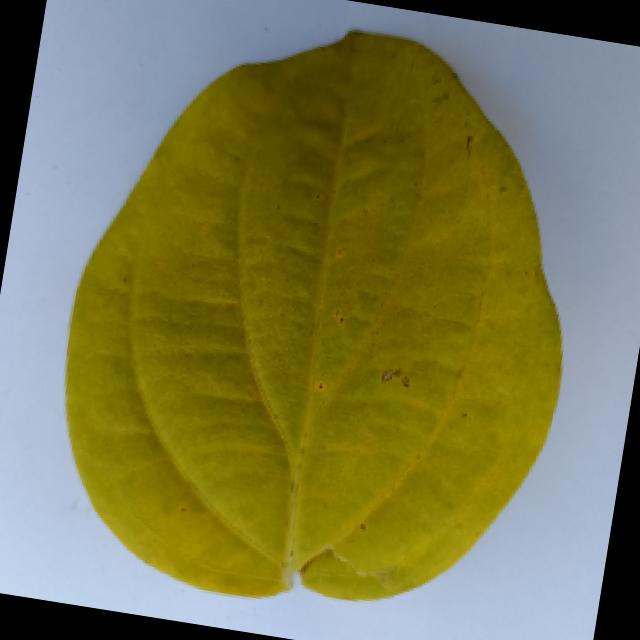slow-decline: (18, 7, 632, 640)
